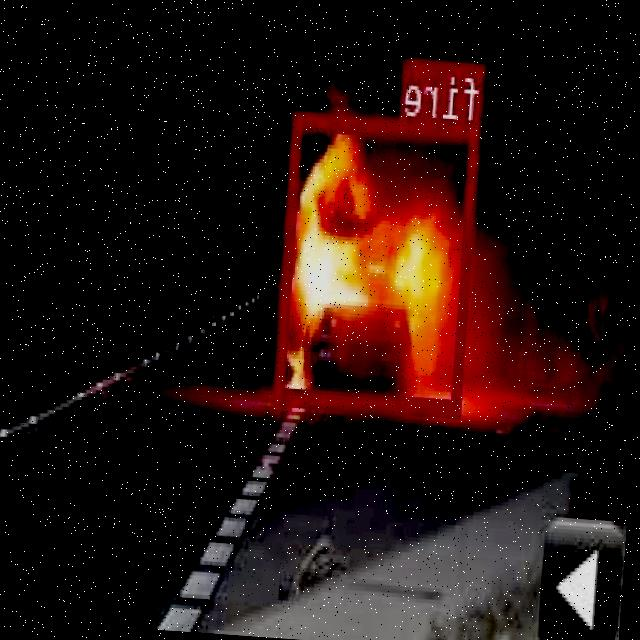fire: (276, 109, 481, 412)
